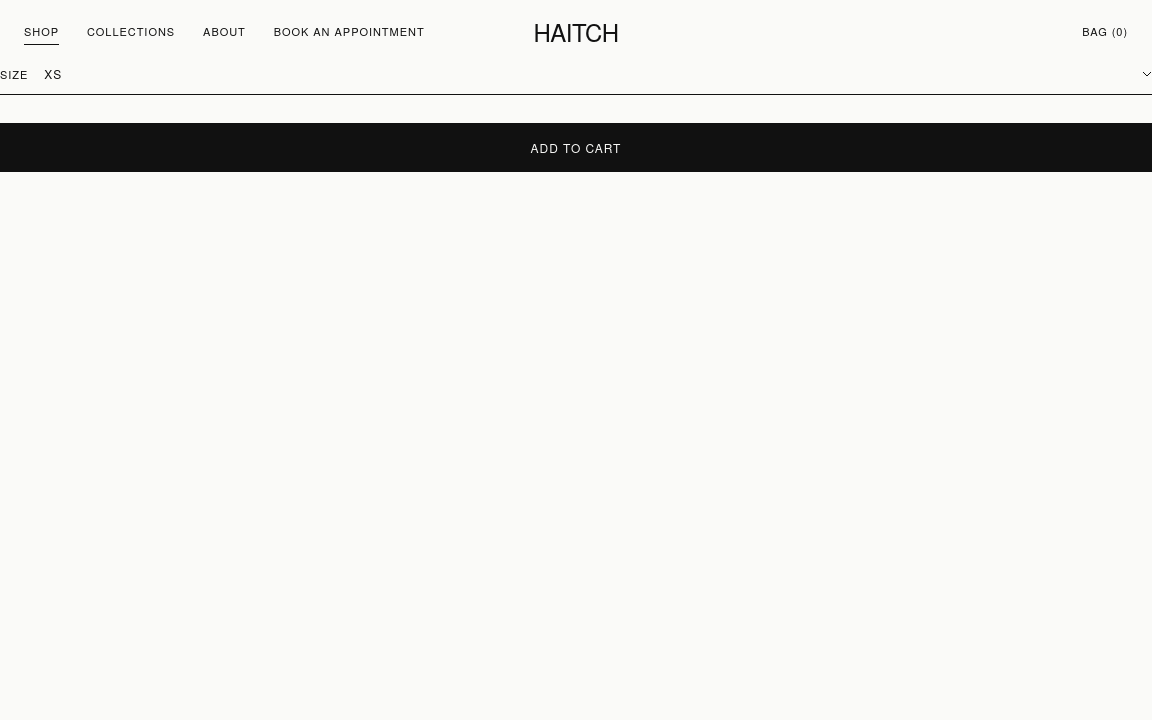
Test: bag › quantity controls update the estimated total and remove clears the line
Select "M" in the dropdown labelled "SIZE" at (598, 74), box [44, 64, 1151, 83]
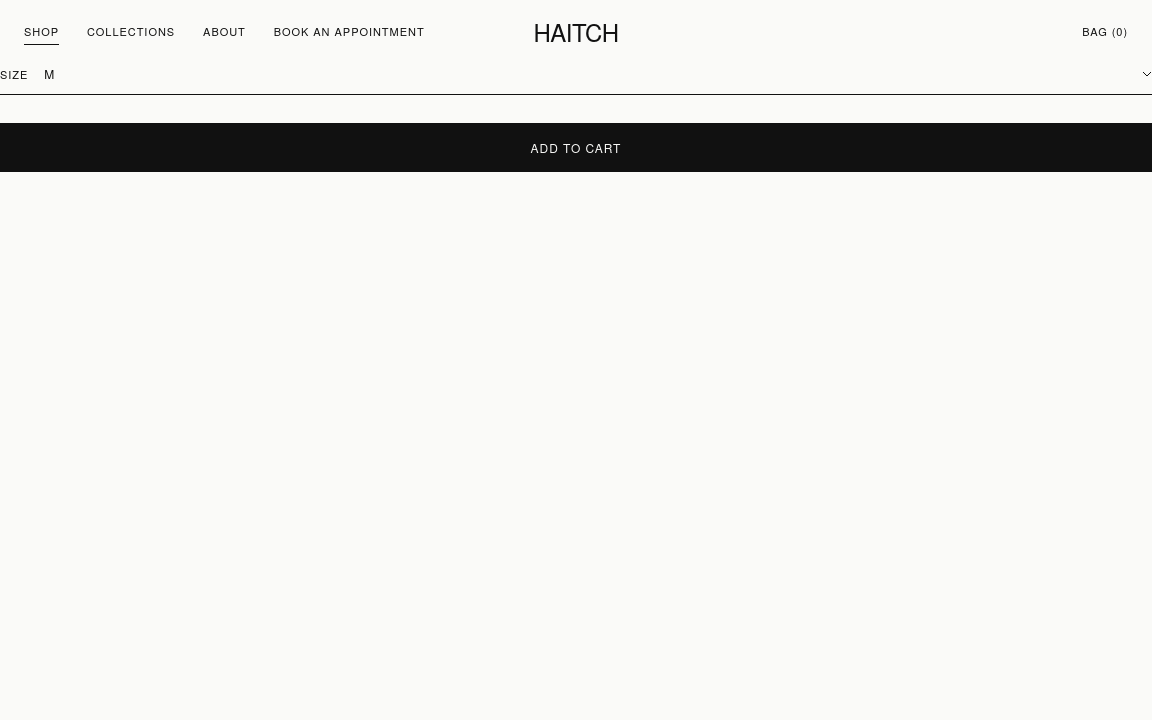
Click the button "ADD TO CART" at (576, 147), box [0, 123, 1151, 172]
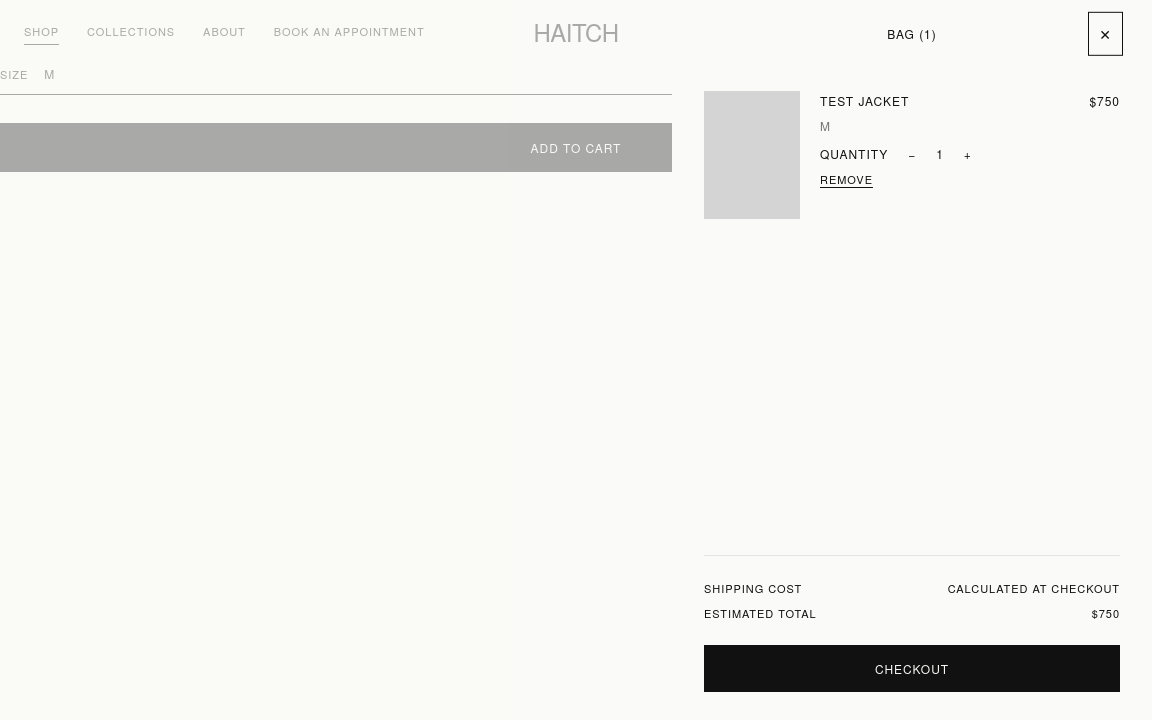
Click the button named "increase quantity" at (968, 153), box [958, 142, 978, 165]
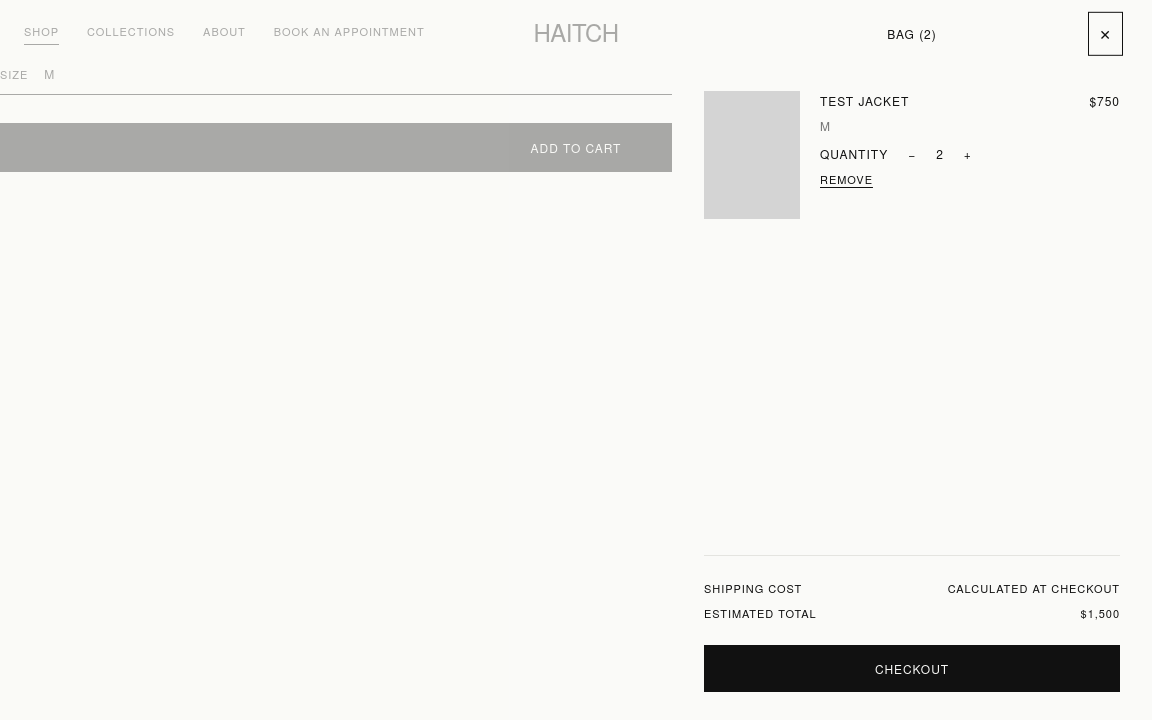
Now the text "$1,500" is shown, box [1081, 605, 1120, 623]
Click the button named "decrease quantity" at (912, 153), box [902, 142, 922, 165]
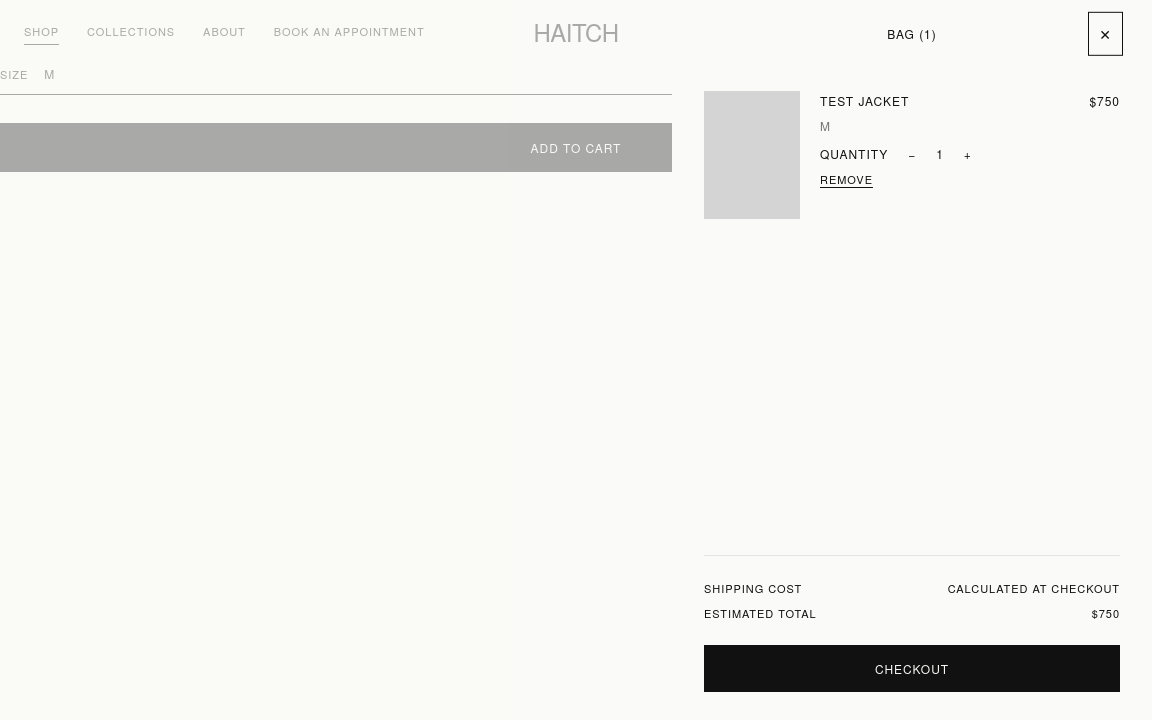
Now the text "$750" in the row of "TEST JACKET" is shown, box [1090, 92, 1120, 109]
Now the text "$1,500" is gone
Click the button "REMOVE" at (846, 180), box [820, 171, 873, 188]
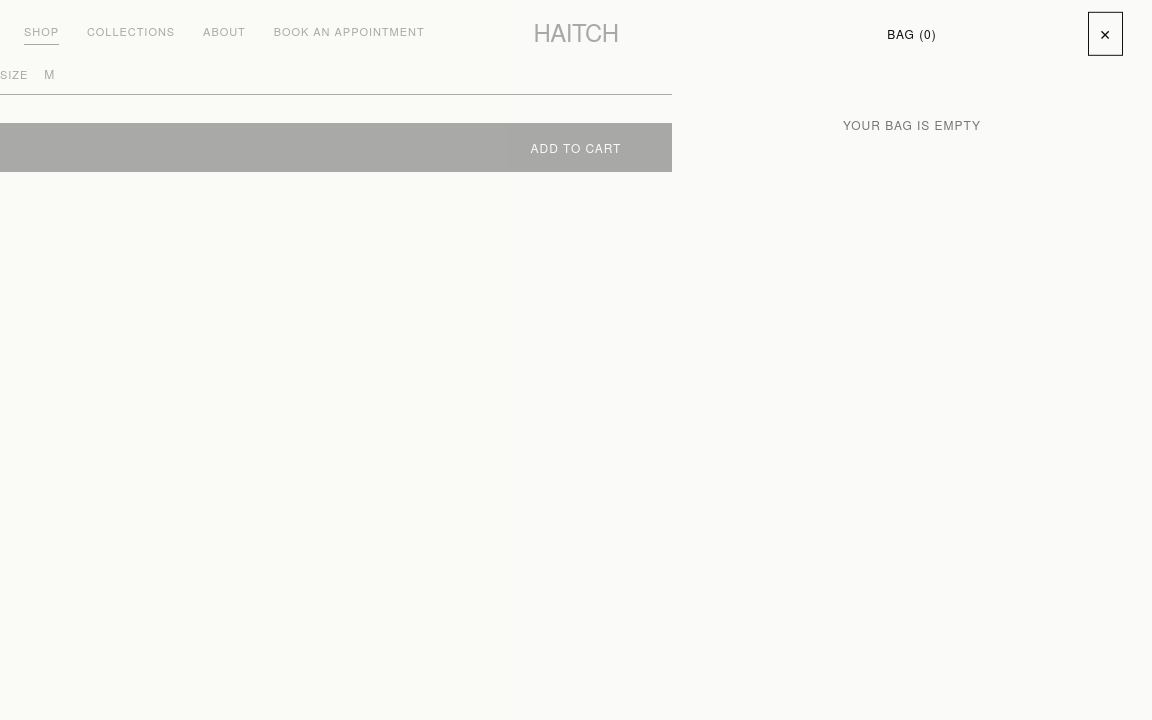
Expected: the button "BAG (0)" is shown, [1082, 19, 1128, 45]
Now the text "YOUR BAG IS EMPTY" is shown, box [843, 116, 981, 133]
